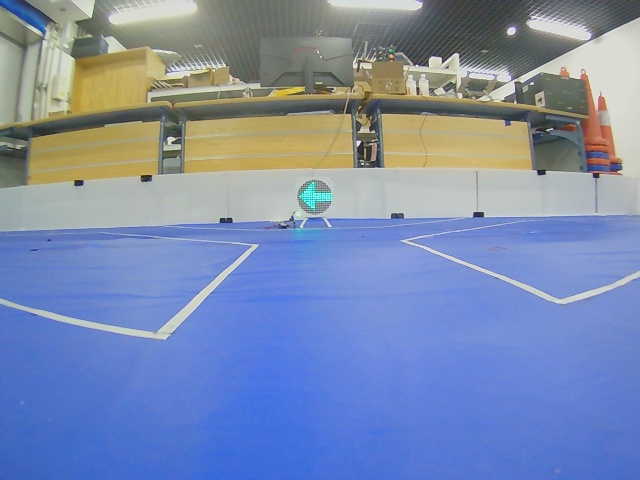left_green: (297, 179, 333, 215)
